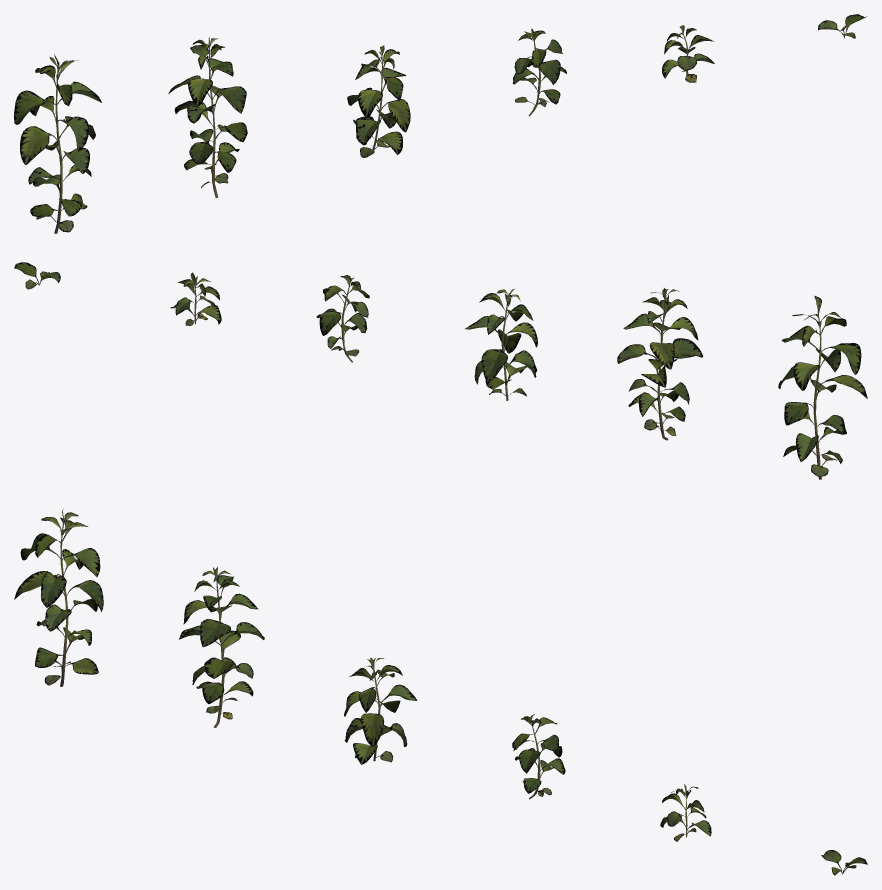
File: nettle_plant.glb
The picture shows the model from 3 angles, top to bottom: view 1: azimuth 30°, elevation 25°; view 2: azimuth 150°, elevation 25°; view 3: azimuth 330°, elevation 25°; orthographic projection.
Parts seen in each view (by area): view 1: nettle_plant_medium_a_LOD0; view 2: nettle_plant_medium_a_LOD0; view 3: nettle_plant_medium_a_LOD0.
Part boxes in pixels (x1=…): nettle_plant_medium_a_LOD0: x1=14, y1=14, x2=866, y2=233; nettle_plant_medium_a_LOD0: x1=14, y1=262, x2=867, y2=479; nettle_plant_medium_a_LOD0: x1=14, y1=509, x2=867, y2=875.
Bounding box in the file's own units: 1.08 × 0.2183 × 0.0947.
Materials: 1 (1 with a texture image).
